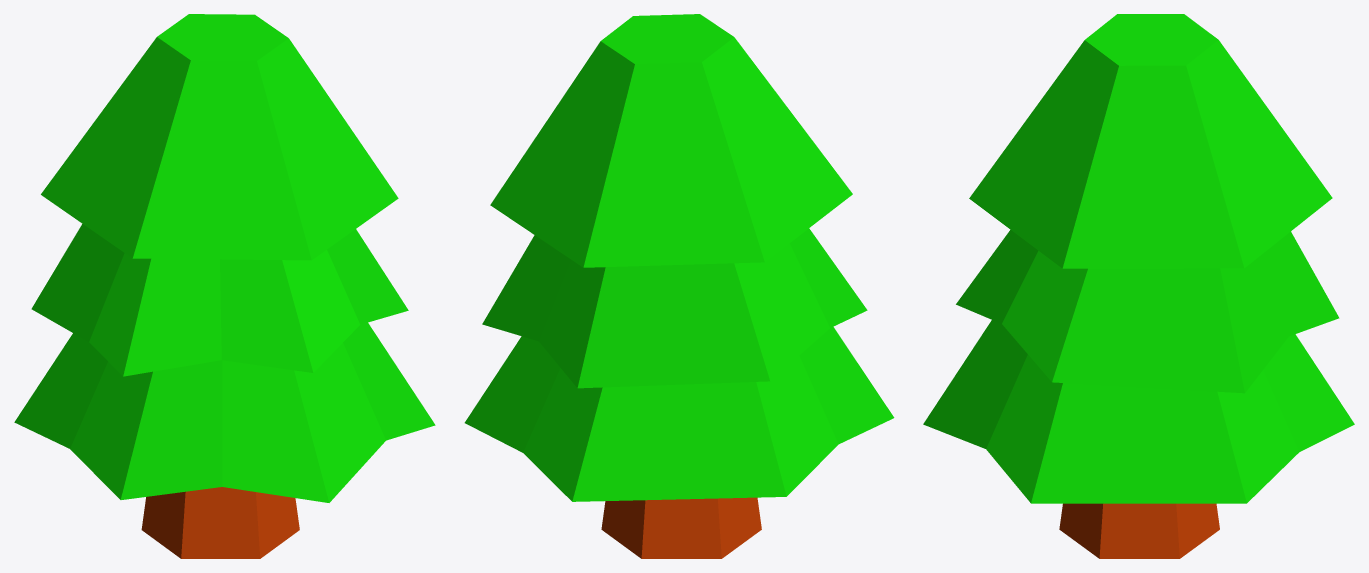
The model's file is Choinka3poziomowv1.fbx.
3 views of the same model, side by side, from view 1: azimuth 30°, elevation 25°; view 2: azimuth 150°, elevation 25°; view 3: azimuth 270°, elevation 25° (orthographic).
Visible parts, largest first — view 1: Walec.005, Walec.001, Walec.002, Walec; view 2: Walec.005, Walec.001, Walec.002, Walec; view 3: Walec.005, Walec.001, Walec.002, Walec.
Part boxes in pixels (x1=…): Walec.005: x1=41, y1=14, x2=398, y2=260; Walec.001: x1=14, y1=322, x2=435, y2=502; Walec.002: x1=31, y1=224, x2=408, y2=376; Walec: x1=141, y1=487, x2=299, y2=558; Walec.005: x1=490, y1=14, x2=852, y2=267; Walec.001: x1=464, y1=326, x2=894, y2=501; Walec.002: x1=482, y1=228, x2=867, y2=388; Walec: x1=601, y1=497, x2=761, y2=558; Walec.005: x1=969, y1=14, x2=1332, y2=268; Walec.001: x1=923, y1=320, x2=1354, y2=503; Walec.002: x1=956, y1=230, x2=1339, y2=393; Walec: x1=1059, y1=503, x2=1219, y2=558.
Size of the model in its own units: 158 by 233 by 184.
